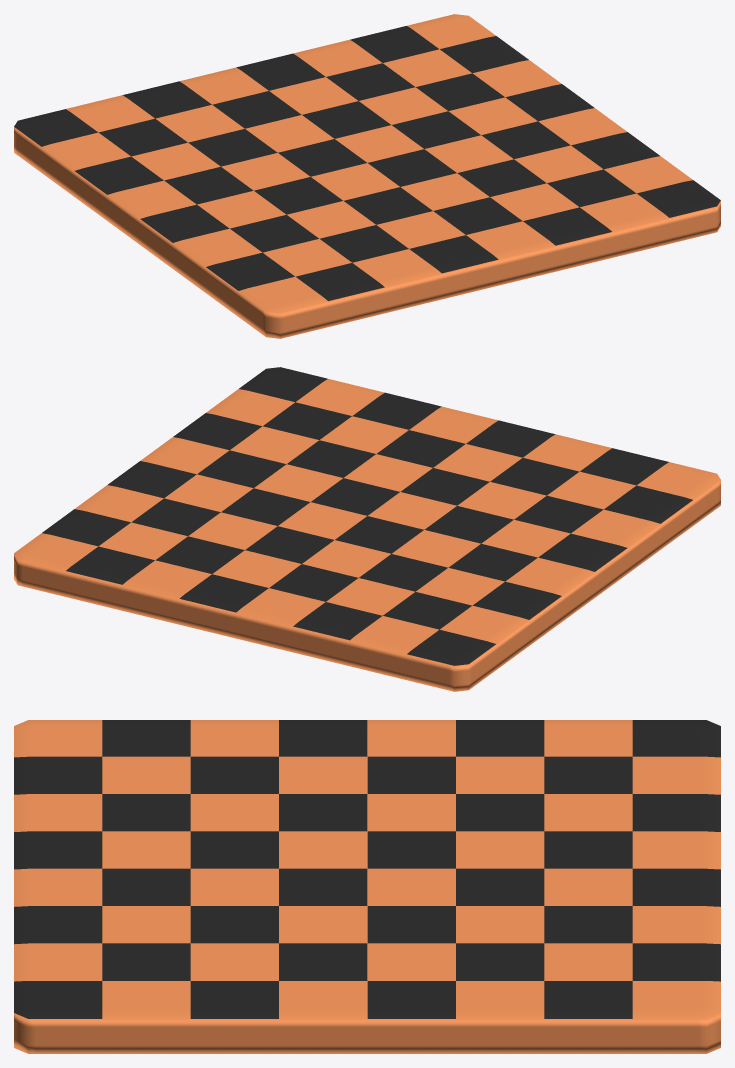
Rendered from checkerboard.gltf.
The picture shows the model from 3 angles, top to bottom: view 1: azimuth 30°, elevation 25°; view 2: azimuth 150°, elevation 25°; view 3: azimuth 270°, elevation 25°; orthographic projection. The views are drawn at different scales.
Parts seen in each view (by area): view 1: Cube; view 2: Cube; view 3: Cube.
Part boxes in pixels (x1,y1,x2,y2): Cube: (14,14,720,338); Cube: (14,367,720,691); Cube: (14,720,720,1053).
Size of the model in its own units: 17.6 by 1 by 17.6.
